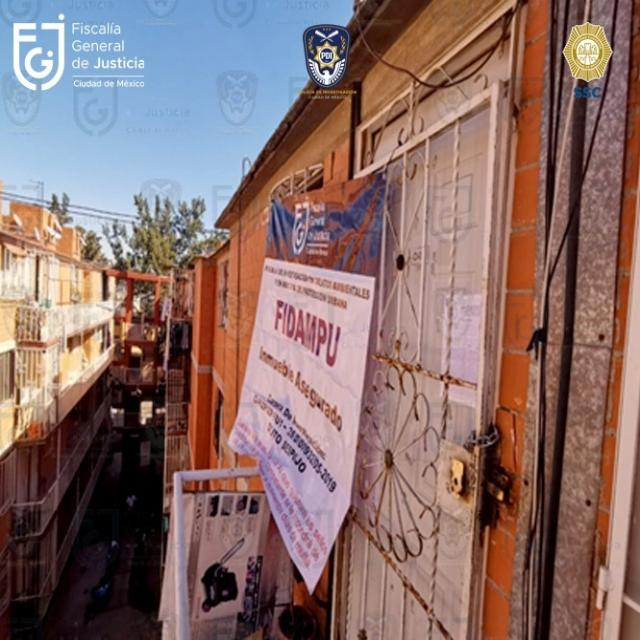stamps: (231, 171, 387, 589)
